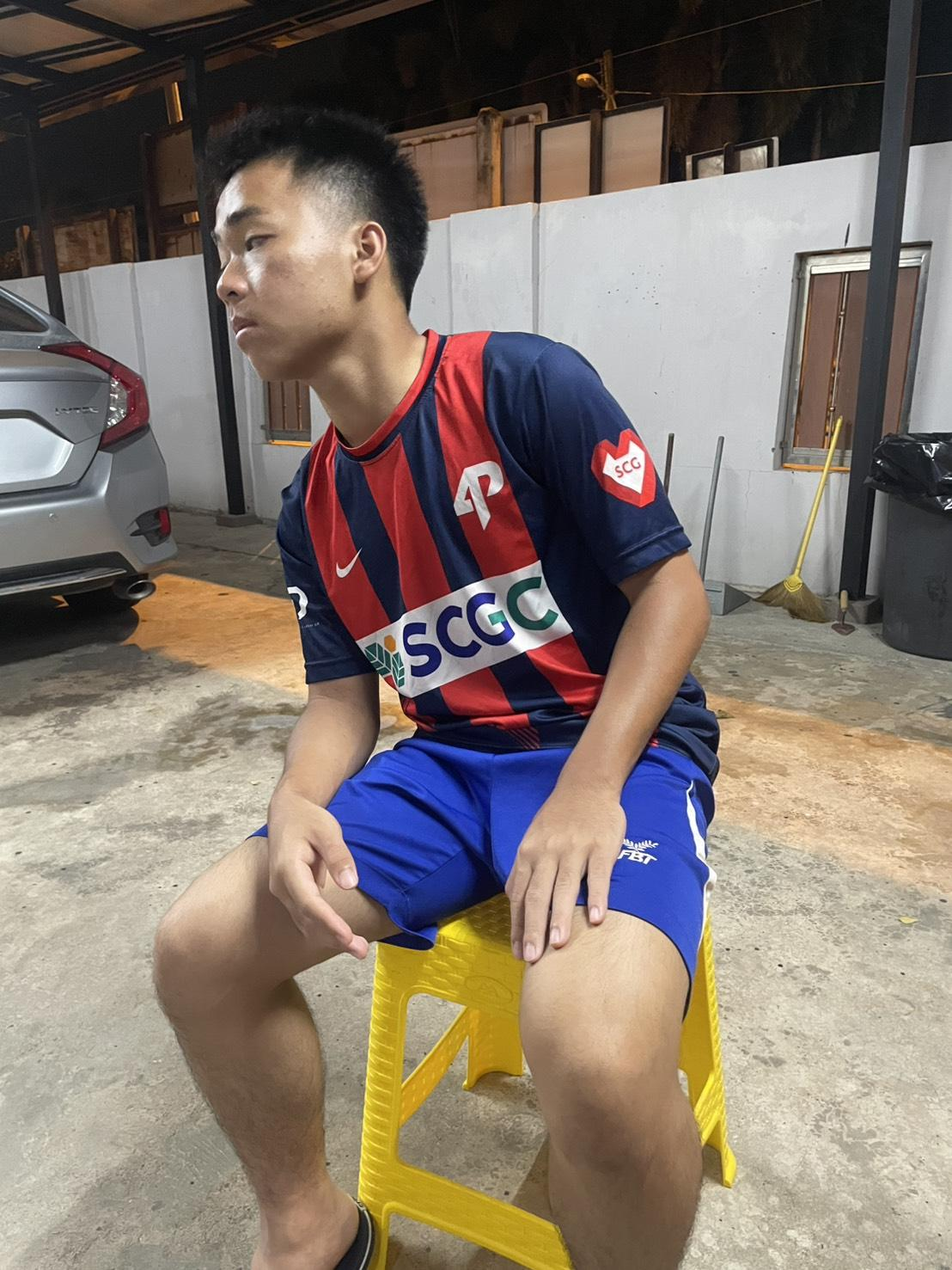BadPosture: (154, 106, 718, 1269), (207, 107, 717, 752)
